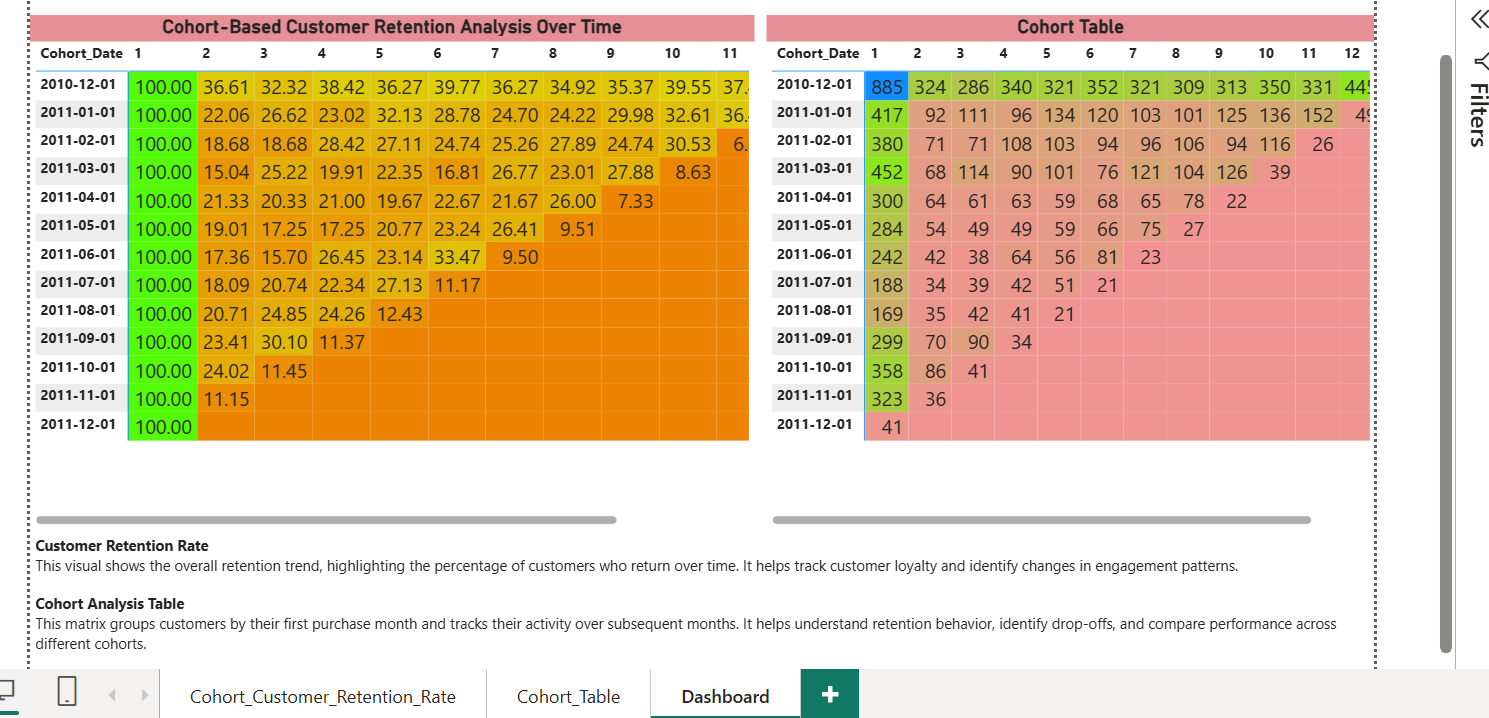

This screenshot's page, from the dashboard's own definition file:
{"tool":"powerbi","page":{"name":"Dashboard","canvas":[1280,720],"ordinal":2},"visuals":[{"type":"pivotTable","title":"Cohort-Based Customer Retention Analysis Over Time","fields":{"Columns":["cohort_retention_final.Cohort_Index"],"Rows":["cohort_retention_final.Cohort_Date"],"Values":["Avg(cohort_retention_final.retention_rate)"]},"box":[0,79.3,689.8,490.6],"z":0},{"type":"pivotTable","title":"Cohort Table","fields":{"Columns":["cohort_retention_final.Cohort_Index"],"Rows":["cohort_retention_final.Cohort_Date"],"Values":["Sum(cohort_retention_final.customer_count)"]},"box":[701.1,79.3,579.7,490.6],"z":1},{"type":"textbox","box":[0,570,1267.9,150.6],"z":2}]}

Visuals, with their boxes on the page's 1280x720 design canvas (x1, y1, x2, y2). These are canvas units, not pixel positions in the 1489x718 screenshot, which may show the page scaled, cropped or inside an application window:
"Cohort-Based Customer Retention Analysis Over Time" pivotTable: {"x1": 0, "y1": 79, "x2": 690, "y2": 570}
"Cohort Table" pivotTable: {"x1": 701, "y1": 79, "x2": 1281, "y2": 570}
textbox: {"x1": 0, "y1": 570, "x2": 1268, "y2": 721}
